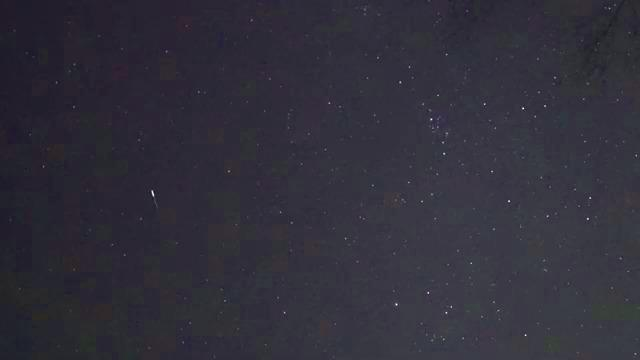meteorite: (138, 184, 170, 215)
